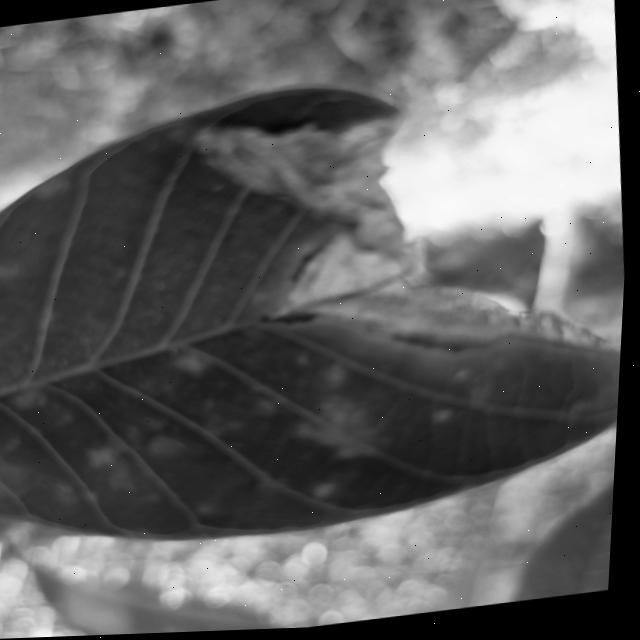Leaf-Blight: (187, 83, 631, 404)
